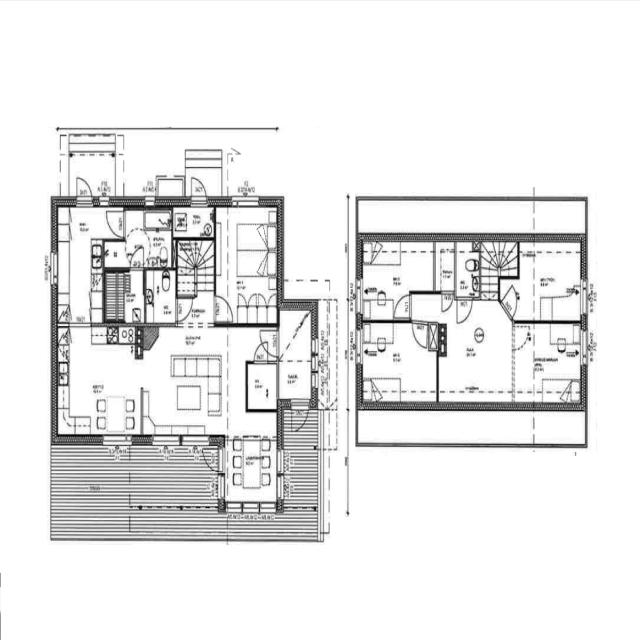door: (187, 173, 209, 206), (105, 206, 126, 239), (259, 327, 280, 360), (74, 174, 94, 205), (213, 293, 234, 322), (455, 292, 474, 324), (175, 293, 195, 323), (512, 322, 532, 351), (290, 402, 309, 432), (393, 291, 413, 318), (411, 319, 428, 349), (501, 286, 518, 316), (202, 444, 220, 472), (127, 244, 146, 270), (252, 339, 269, 364), (440, 289, 454, 312)
window: (182, 430, 208, 453), (230, 193, 262, 209), (152, 428, 182, 445), (238, 498, 263, 518), (275, 446, 284, 500), (102, 428, 130, 444), (48, 248, 59, 288), (286, 499, 308, 518), (257, 498, 279, 516), (579, 276, 588, 318), (355, 274, 364, 314), (580, 328, 588, 368), (354, 327, 362, 366), (95, 191, 113, 206), (276, 446, 285, 476), (143, 192, 157, 208), (310, 334, 318, 360)
zone: (55, 324, 142, 435), (438, 297, 513, 401), (215, 202, 280, 319), (359, 321, 437, 406), (55, 205, 104, 326), (359, 239, 436, 313), (516, 239, 584, 321), (529, 322, 584, 405), (226, 435, 278, 506), (279, 308, 313, 398), (122, 211, 173, 268), (104, 268, 146, 322), (144, 267, 177, 324), (246, 361, 278, 411), (454, 241, 480, 296), (278, 360, 312, 401), (173, 205, 215, 237), (435, 239, 455, 292)
